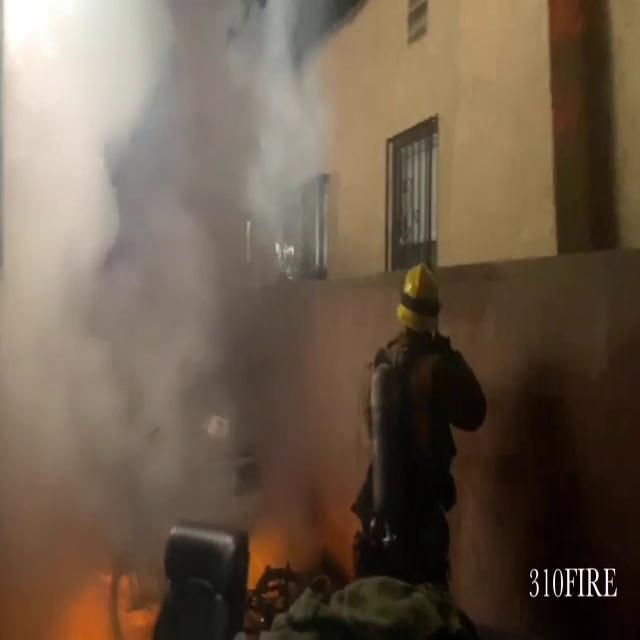Fire: (54, 561, 162, 639)
Smoke: (1, 1, 393, 584)
